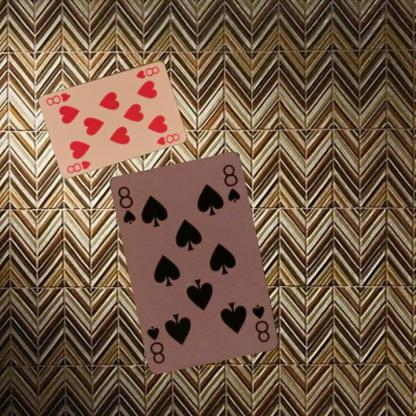8h: (64, 158, 92, 174), (134, 64, 160, 80)
8s: (115, 184, 138, 226), (250, 302, 272, 344)
